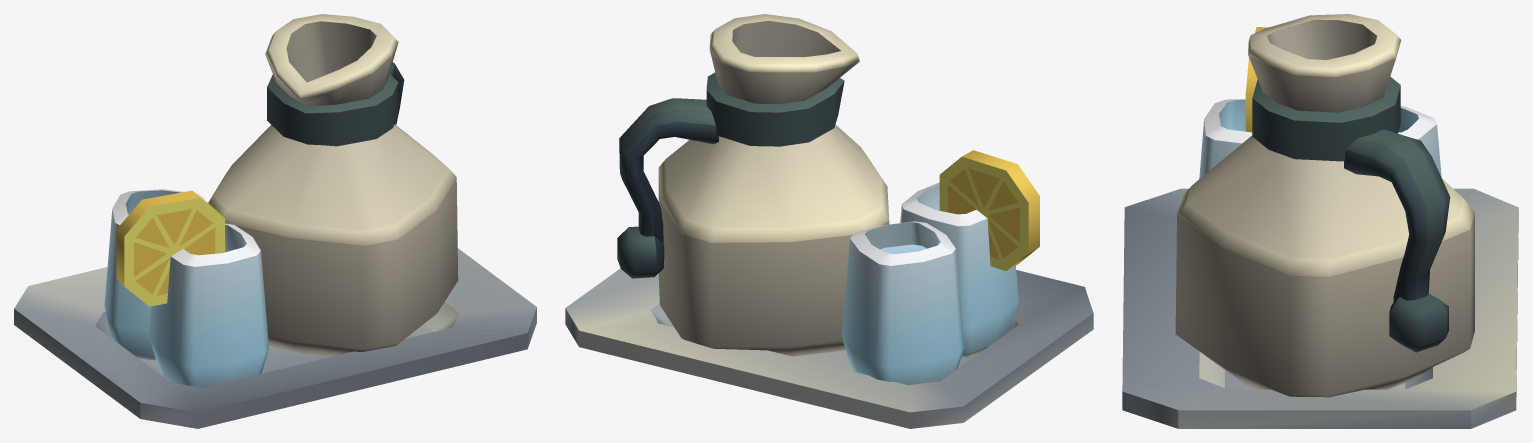
File: tray_water.fbx
3 renders of one model, left to right at view 1: azimuth 30°, elevation 25°; view 2: azimuth 150°, elevation 25°; view 3: azimuth 270°, elevation 25°, orthographic. The views are drawn at different scales.
Visible parts, largest first — view 1: tray_water; view 2: tray_water; view 3: tray_water.
Part boxes in pixels (x1,y1,x2,y2): tray_water: [14, 14, 536, 428]; tray_water: [565, 14, 1093, 428]; tray_water: [1122, 14, 1518, 428].
Size of the model in its own units: 76.07 by 53.55 by 57.28.
